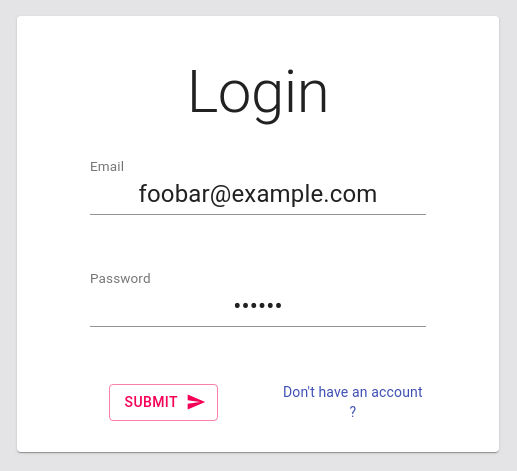
Test case: Login › Form checking › We should have an helper label on email if the email is invalid
Default values should give an error on password
Press Selectall in the field named "email", box x1=90 y1=174 x2=426 y2=216
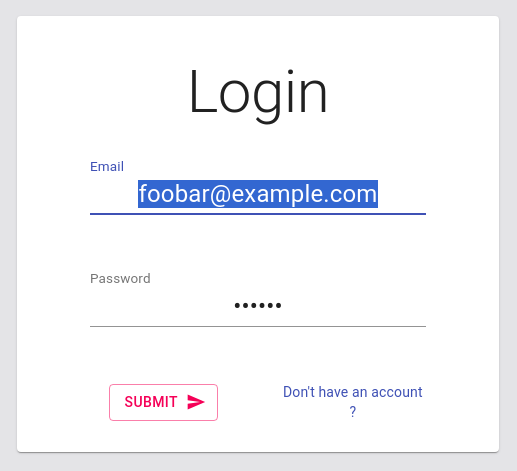
In the field named "email": (258, 195) x1=90 y1=174 x2=426 y2=216, type "testEmailWithoutAt.com"
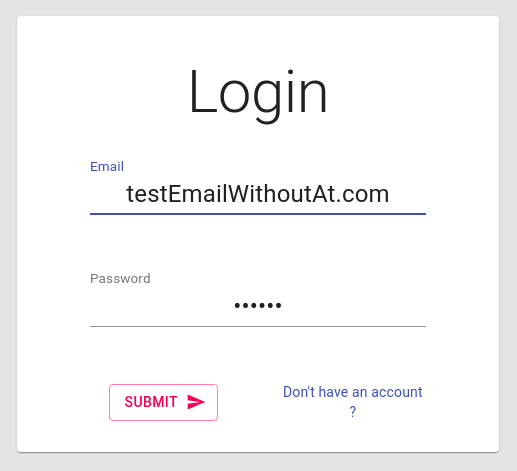
Press Enter in the field named "email", box x1=90 y1=174 x2=426 y2=216
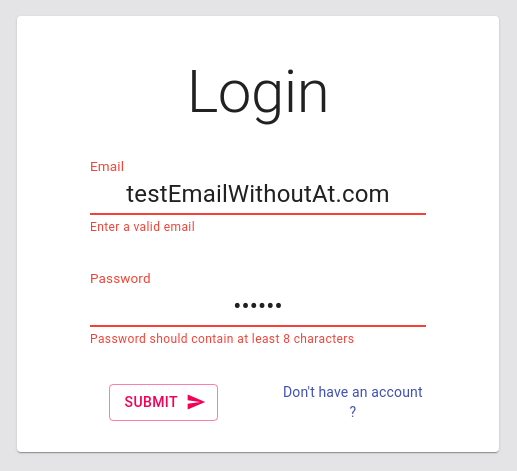
Result: the text with id "email-helper-text" reads "Enter a valid email" at x1=90 y1=220 x2=195 y2=234
